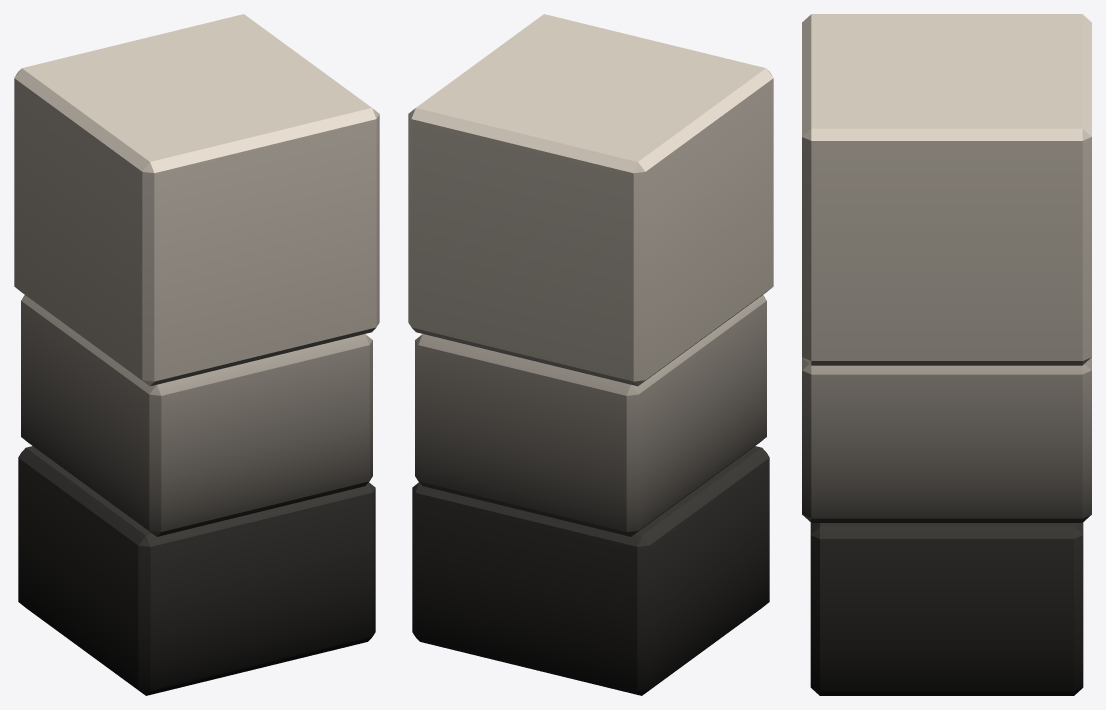
Rendered from SM_VKI_Post_Sewer_Corner_Cut.fbx.
The picture shows the model from 3 angles, left to right: view 1: azimuth 30°, elevation 25°; view 2: azimuth 150°, elevation 25°; view 3: azimuth 270°, elevation 25°; orthographic projection. The views are drawn at different scales.
Visible parts, largest first — view 1: SM_VKI_Post_Sewer_Corner_Cut.001; view 2: SM_VKI_Post_Sewer_Corner_Cut.001; view 3: SM_VKI_Post_Sewer_Corner_Cut.001.
Boxes of the visible parts, x1,y1,x2,y2 form: SM_VKI_Post_Sewer_Corner_Cut.001: (14, 14, 379, 695); SM_VKI_Post_Sewer_Corner_Cut.001: (408, 14, 773, 695); SM_VKI_Post_Sewer_Corner_Cut.001: (802, 14, 1091, 695).
Size of the model in its own units: 0.62 by 1.34 by 0.62.
